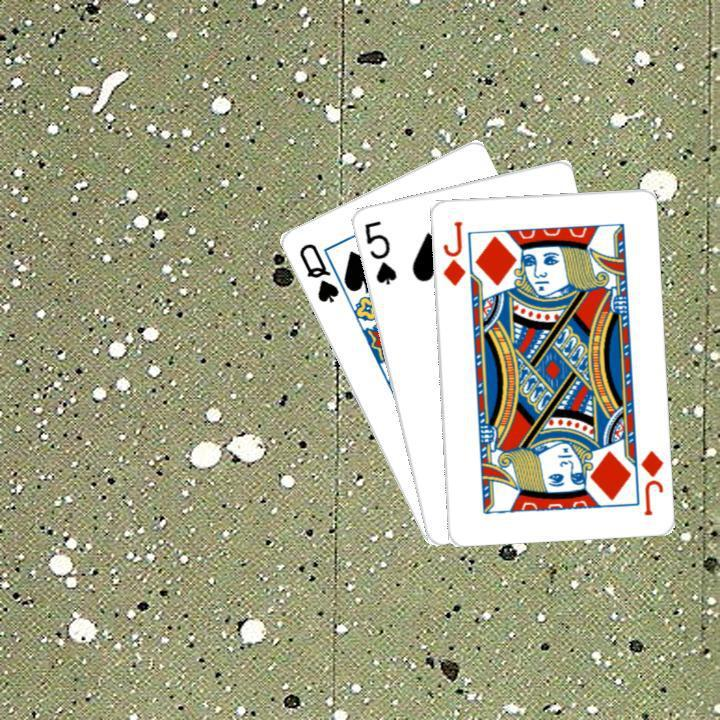5: (359, 216, 398, 286)
J: (438, 216, 467, 288), (636, 445, 665, 517)
Q: (294, 238, 341, 305)
